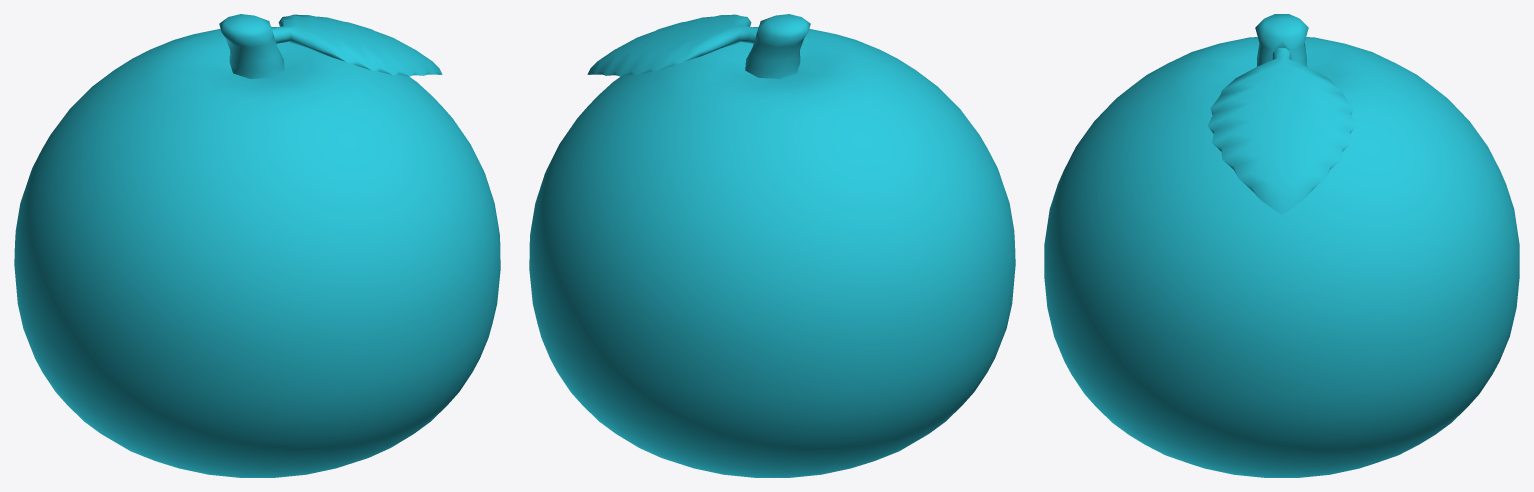
Rendered from Holo_Legendary_Fruit.glb.
The picture shows the model from 3 angles, left to right: view 1: azimuth 30°, elevation 25°; view 2: azimuth 150°, elevation 25°; view 3: azimuth 270°, elevation 25°; orthographic projection. The views are drawn at different scales.
Visible parts, largest first — view 1: Holo_Honeydew; view 2: Holo_Honeydew; view 3: Holo_Honeydew.
Boxes of the visible parts, x1=… form: Holo_Honeydew: x1=14, y1=14, x2=500, y2=477; Holo_Honeydew: x1=529, y1=14, x2=1015, y2=477; Holo_Honeydew: x1=1044, y1=14, x2=1519, y2=477.
Size of the model in its own units: 0.81 by 0.781 by 0.8086.
